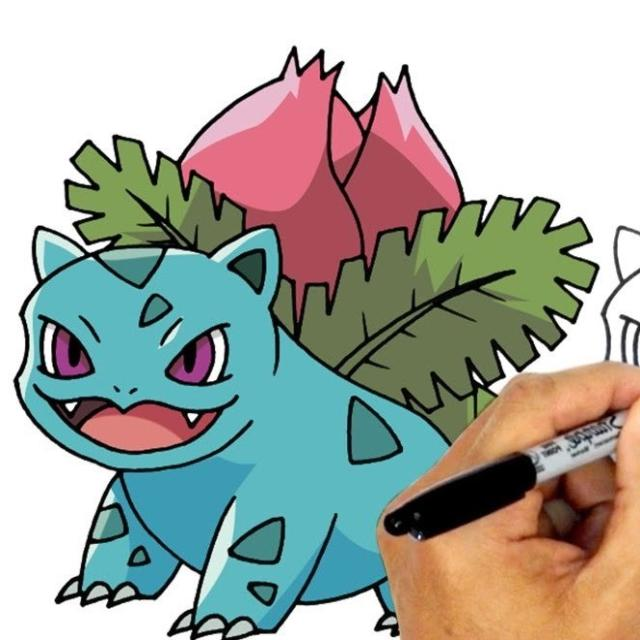Ivysaur: (30, 52, 458, 608)
